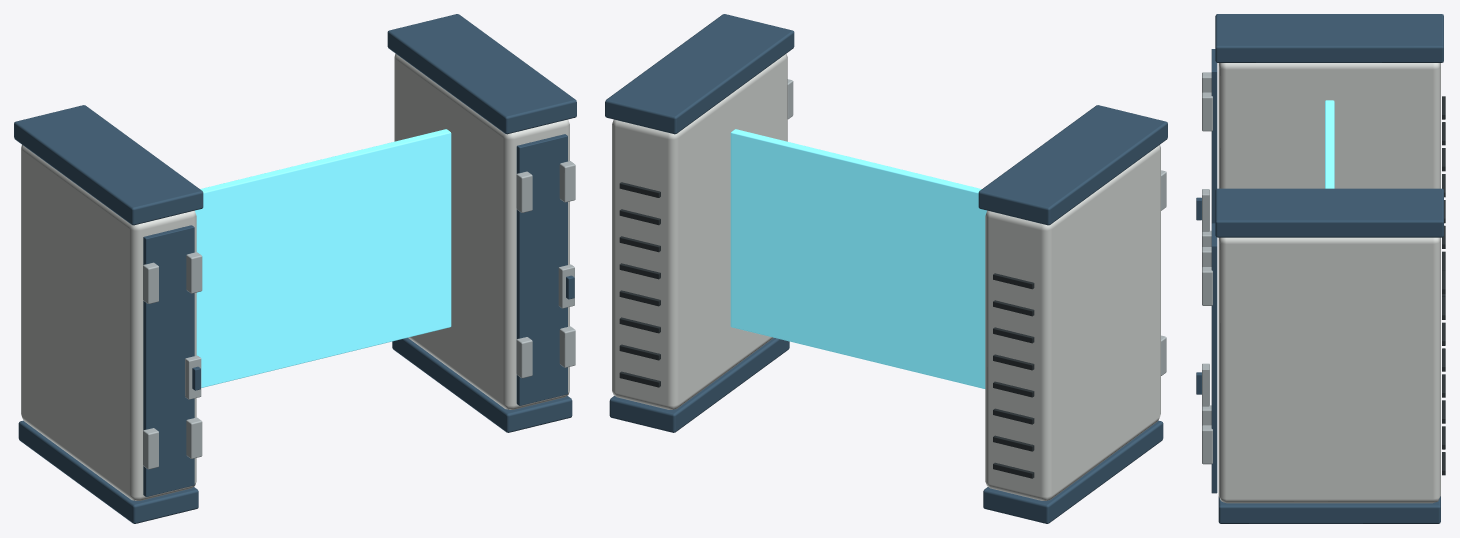
Rendered from container-inspection-and-customs-yard-container-inspec-5381b46a__29305.glb.
The picture shows the model from 3 angles, left to right: view 1: azimuth 30°, elevation 25°; view 2: azimuth 150°, elevation 25°; view 3: azimuth 270°, elevation 25°; orthographic projection. The views are drawn at different scales.
Parts seen in each view (by area): view 1: container-inspection-and-customs-yard-pedestrian-turnstile; view 2: container-inspection-and-customs-yard-pedestrian-turnstile; view 3: container-inspection-and-customs-yard-pedestrian-turnstile.
Boxes of the visible parts, x1=… form: container-inspection-and-customs-yard-pedestrian-turnstile: x1=14, y1=14, x2=576, y2=523; container-inspection-and-customs-yard-pedestrian-turnstile: x1=605, y1=14, x2=1167, y2=523; container-inspection-and-customs-yard-pedestrian-turnstile: x1=1196, y1=14, x2=1445, y2=523.
Size of the model in its own units: 1.55 by 1.06 by 0.785.
